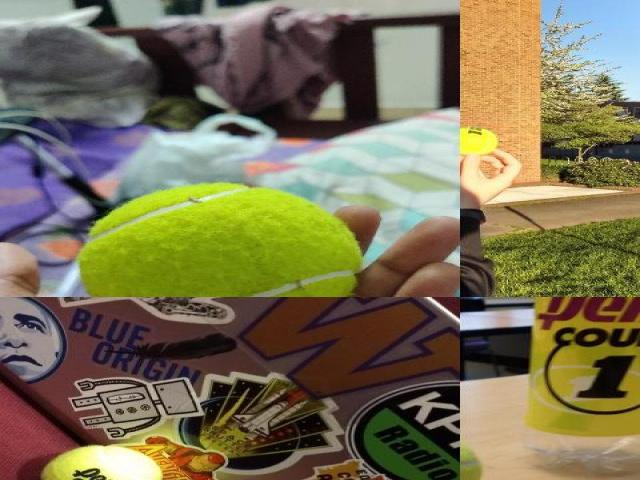tennis-ball: (74, 180, 364, 296), (37, 444, 163, 479), (460, 127, 500, 156)
